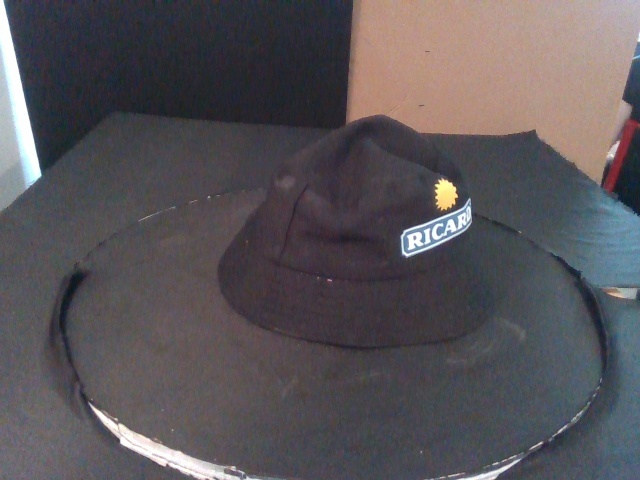hat: (216, 115, 478, 341)
